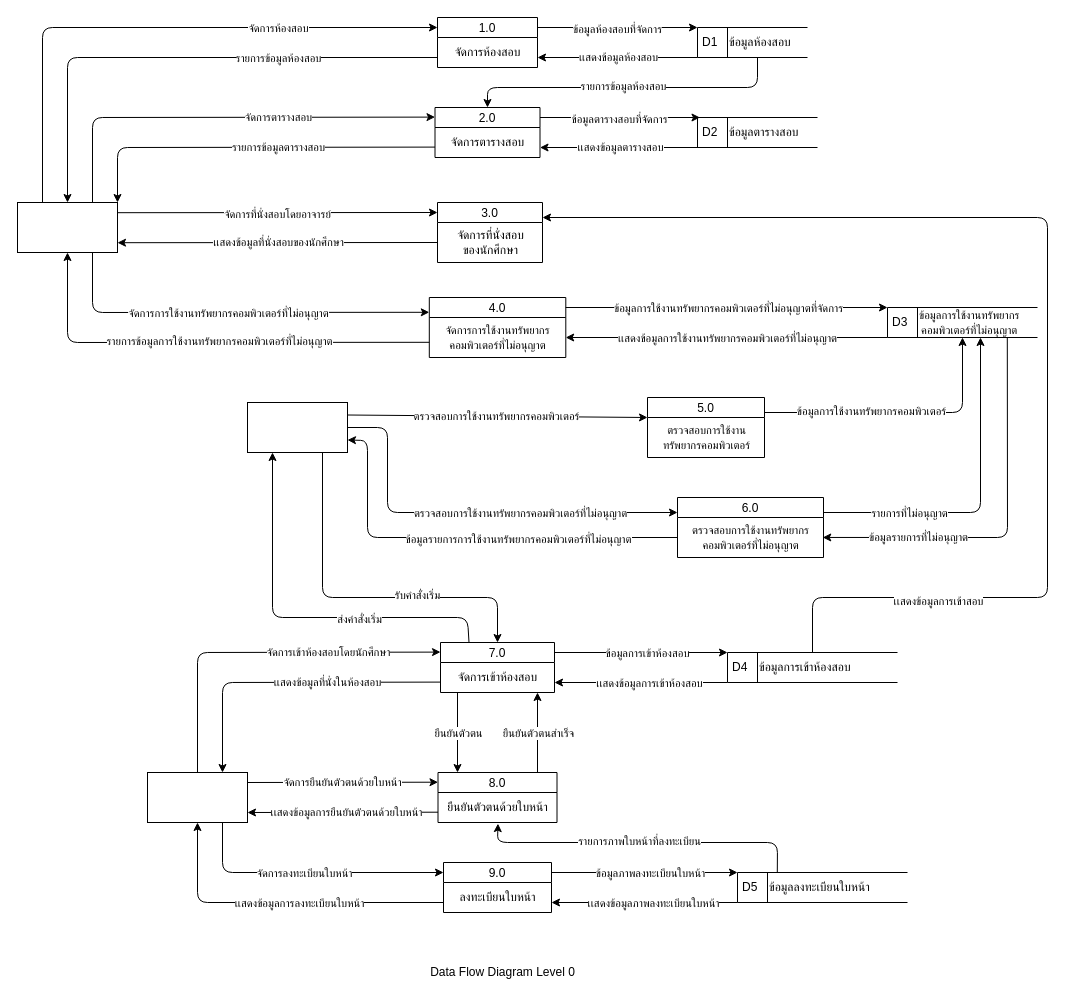
The diagram is 1075 pixels wide and 1005 high, and some of its shapes have lost their labels. The shapes that lost their labels are listed below. From the top down, each one's centre as x and y in pixels, then its label:
the point at 67,227: อาจารย์
the point at 297,427: Agent
the point at 197,797: นักศึกษา
